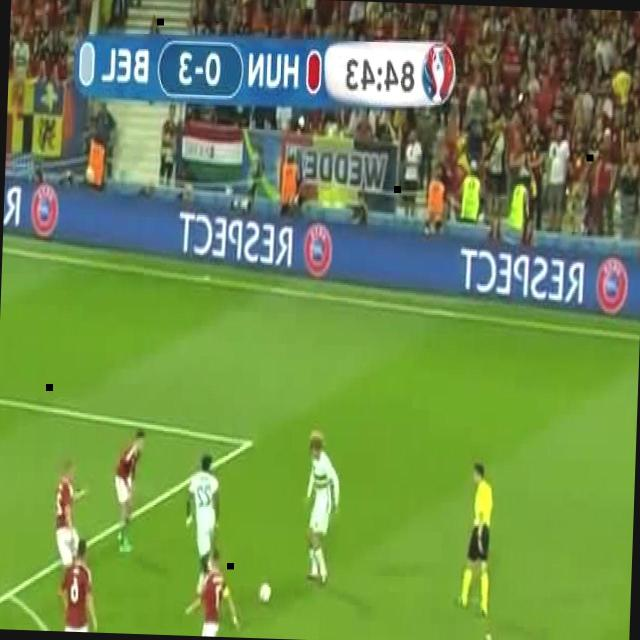ball: (259, 583, 271, 603)
player-white: (302, 426, 342, 586), (182, 454, 224, 600), (457, 462, 494, 616), (185, 544, 242, 638), (52, 464, 86, 610), (113, 428, 147, 552), (61, 538, 101, 632), (463, 629, 518, 640)
